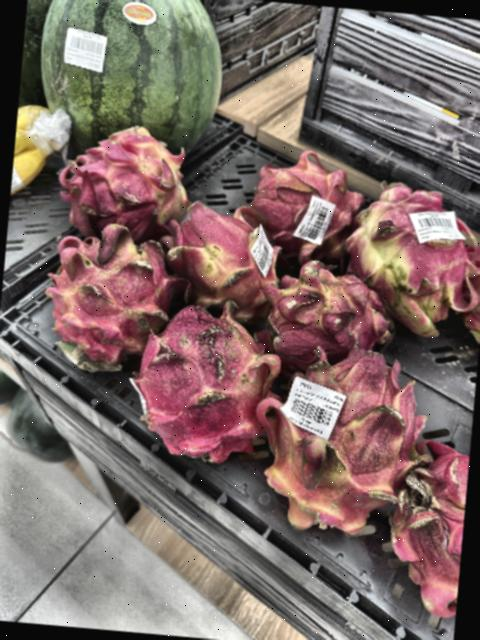buah-naga-belum-matang: (248, 342, 419, 542), (343, 183, 480, 332), (40, 227, 170, 373), (52, 116, 192, 244), (253, 258, 401, 364), (162, 198, 288, 321)
buah-naga-matang: (124, 303, 276, 469), (379, 428, 471, 618), (242, 145, 368, 267)
